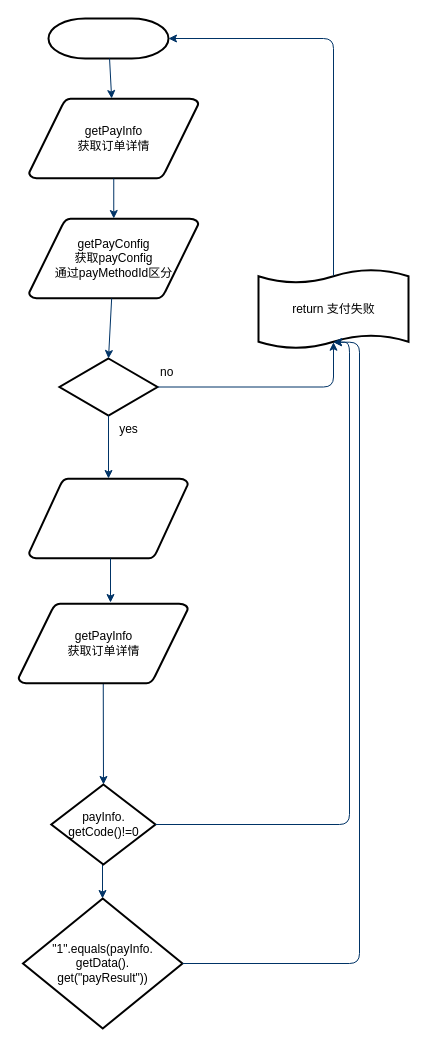
The diagram is 426 pixels wide and 1046 high, and some of its shapes have lost their labels. Each missing label, with the centre of its shape:
"PayAction pay （唤起支付界面流程）" belongs at [108,38].
"payCoing. Status==1" belongs at [108,386].
"PayServiceBase pay" belongs at [108,518].
